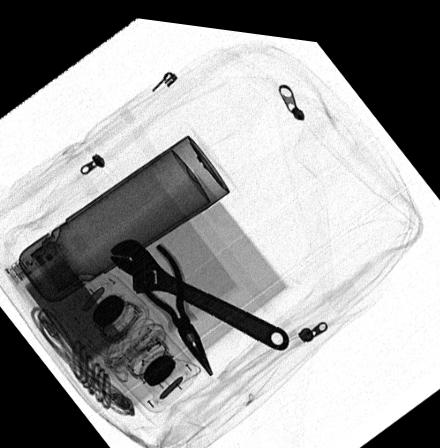Pliers: (120, 236, 215, 370)
Powerbank: (4, 238, 123, 364)
Wrench: (109, 235, 291, 344)
